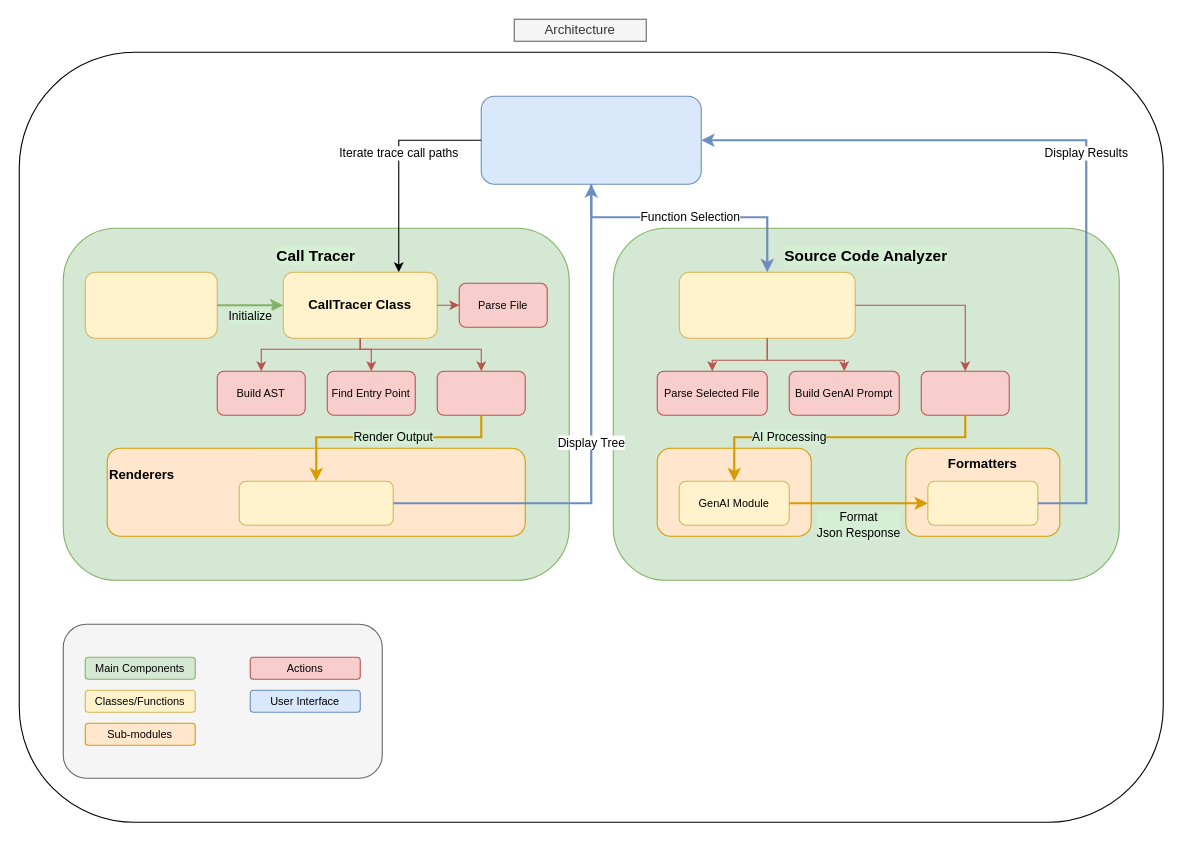
Image size: 1183x842. Some labels were removed from this diagram. Each missing label, with the box of its shape:
GenAI Modules: (656, 447, 811, 536)
Invoke GenAI: (920, 370, 1009, 415)
Legend: (62, 623, 382, 778)
main(): (84, 271, 217, 338)
Markdown Formatter: (927, 480, 1038, 525)
Renderer Module: (238, 480, 393, 525)
SourceCodeAnalyzer Class: (678, 271, 855, 338)
Trace Call Paths: (436, 370, 525, 415)
User Interface (Tree Diagram): (480, 95, 701, 184)
